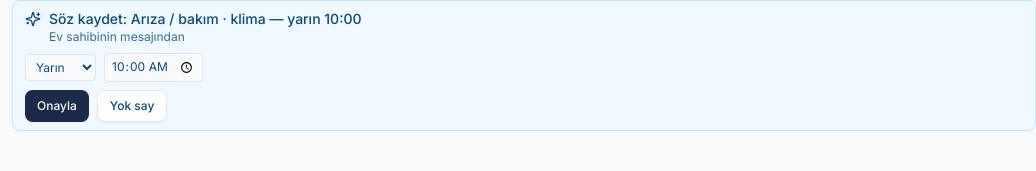
it: eylem önerisi — mevcut söze bağlandı bilgisi › Opus 10-17 Q1b-B: liste ile onay arasında seçim gerekli oldu (400, alan 'attach') → hata VE liste yenilenir (seçenekler görünür)
This screenshot has width=1036, height=171.
Click the button "Onayla" at (57, 106), box top-left (25, 90), bottom-right (89, 122)
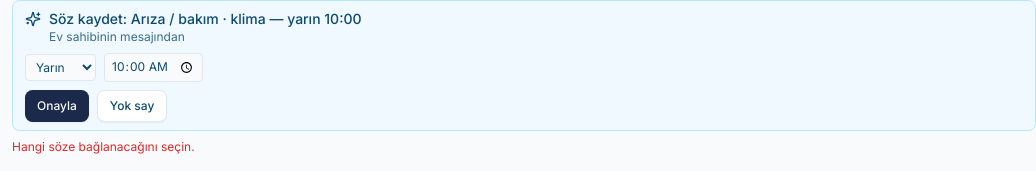
Result: the message reads "Hangi söze bağlanacağını seçin." at top-left (12, 139), bottom-right (195, 154)
